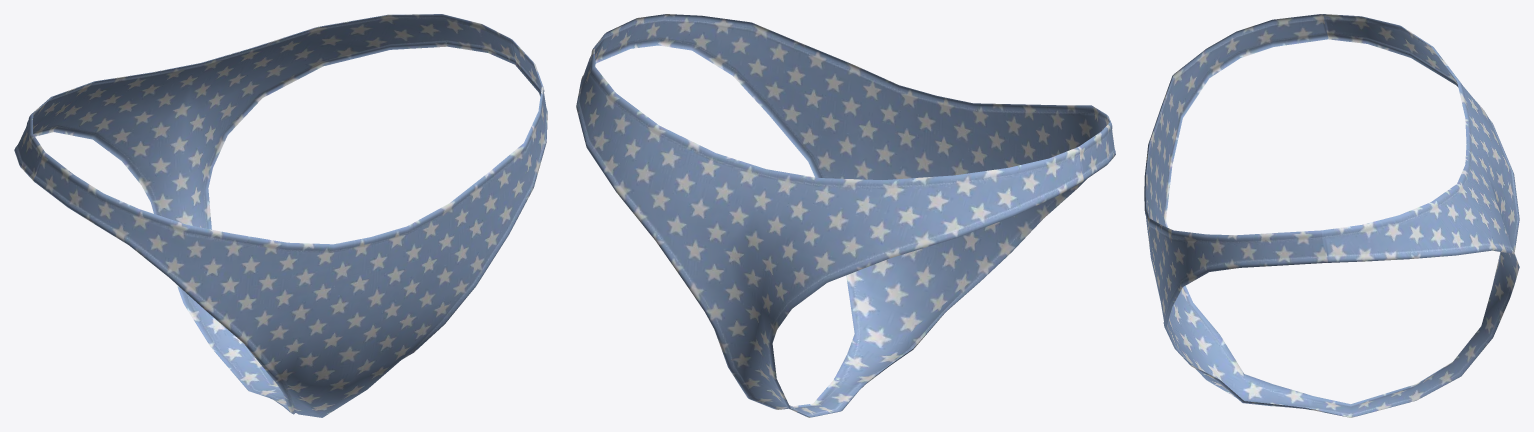
File: wolgade-female-panties-01.glb
The picture shows the model from 3 angles, left to right: view 1: azimuth 30°, elevation 25°; view 2: azimuth 150°, elevation 25°; view 3: azimuth 270°, elevation 25°; orthographic projection. The views are drawn at different scales.
Parts seen in each view (by area): view 1: Human.wolgade_female_panties_01; view 2: Human.wolgade_female_panties_01; view 3: Human.wolgade_female_panties_01.
Part boxes in pixels (x1=…): Human.wolgade_female_panties_01: x1=14, y1=14, x2=547, y2=417; Human.wolgade_female_panties_01: x1=576, y1=14, x2=1115, y2=417; Human.wolgade_female_panties_01: x1=1144, y1=14, x2=1519, y2=417.
Bounding box in the file's own units: 0.3062 × 0.1857 × 0.2165.
Materials: 1 (1 with a texture image).
